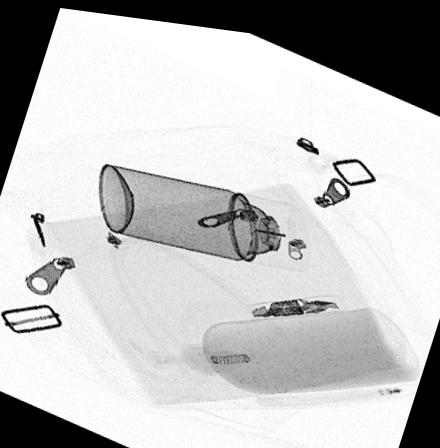Sprayer: (95, 158, 312, 262)
